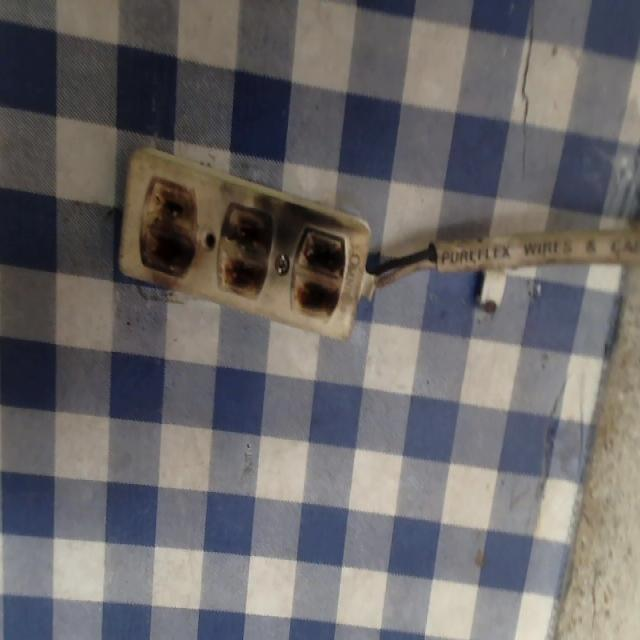-: (130, 176, 200, 299), (214, 195, 274, 304), (290, 218, 351, 318)
